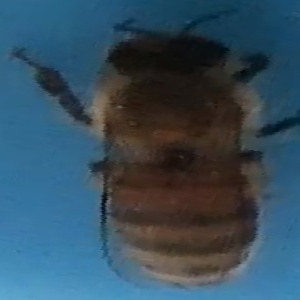bee: (13, 10, 300, 290)
